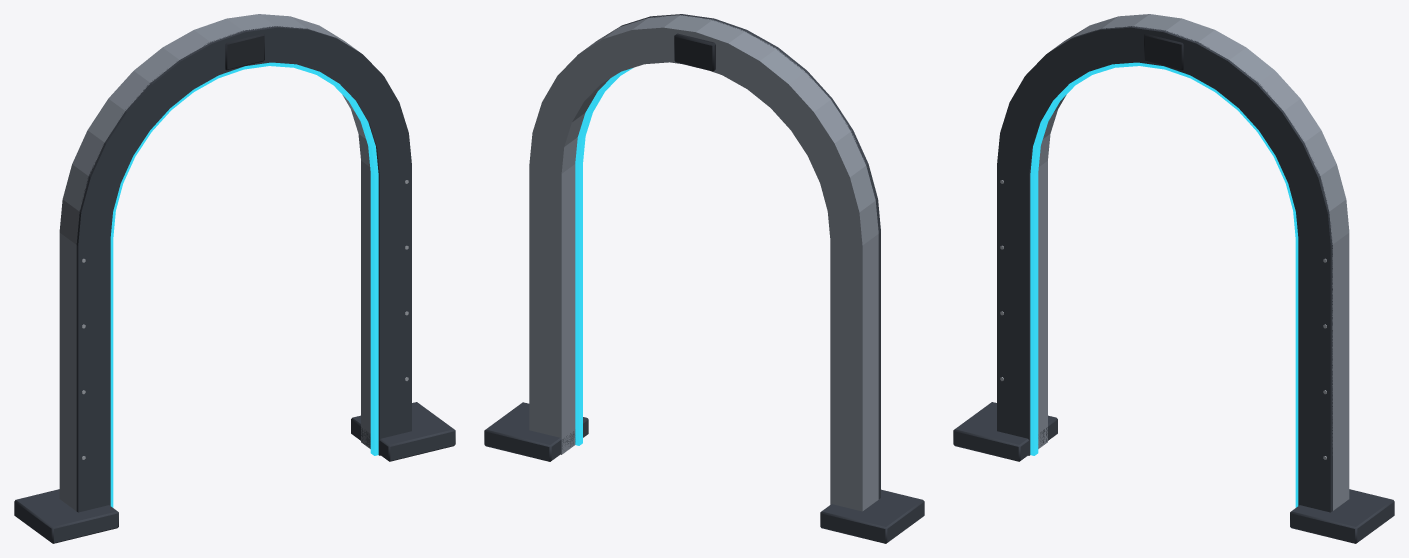
Rendered from doorframe_round_arch.glb.
3 renders of one model, left to right at view 1: azimuth 30°, elevation 25°; view 2: azimuth 150°, elevation 25°; view 3: azimuth 330°, elevation 25°, orthographic.
Parts seen in each view (by area): view 1: doorframe_round_arch; view 2: doorframe_round_arch; view 3: doorframe_round_arch.
Part boxes in pixels (left/top/right/bottom): doorframe_round_arch: left=14, top=14, right=455, bottom=543; doorframe_round_arch: left=484, top=14, right=924, bottom=543; doorframe_round_arch: left=953, top=14, right=1394, bottom=543.
Size of the model in its own units: 3 by 3.24 by 0.5.
